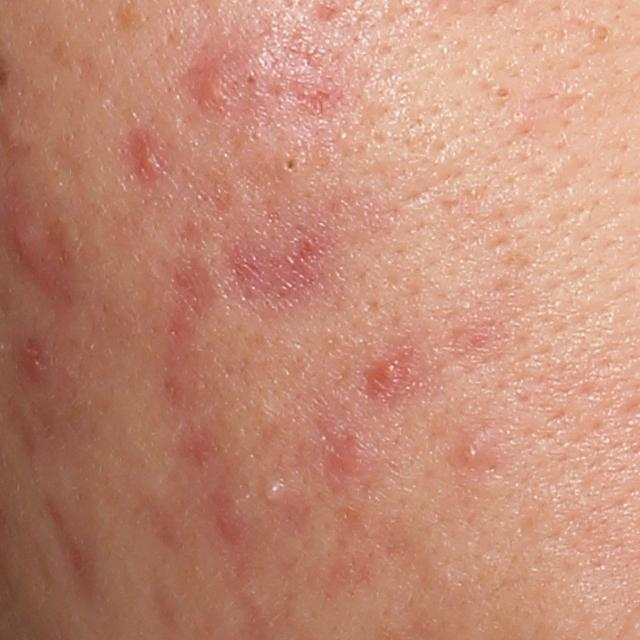atrophic_scar: (212, 225, 355, 327), (145, 252, 224, 353)
comedo: (585, 16, 617, 46), (276, 146, 303, 178), (242, 65, 262, 90), (488, 80, 513, 100)
papule: (8, 199, 71, 296), (185, 47, 241, 118), (127, 124, 175, 185), (448, 433, 494, 481)
